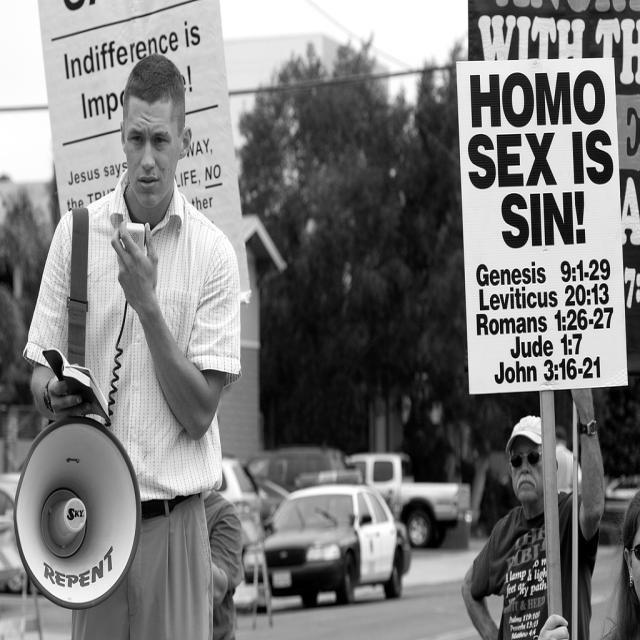car: (238, 484, 414, 618)
